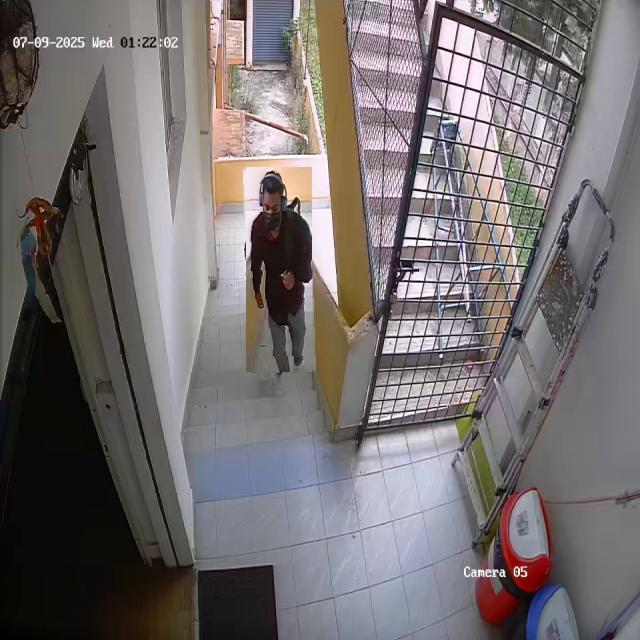person: (245, 166, 314, 372)
